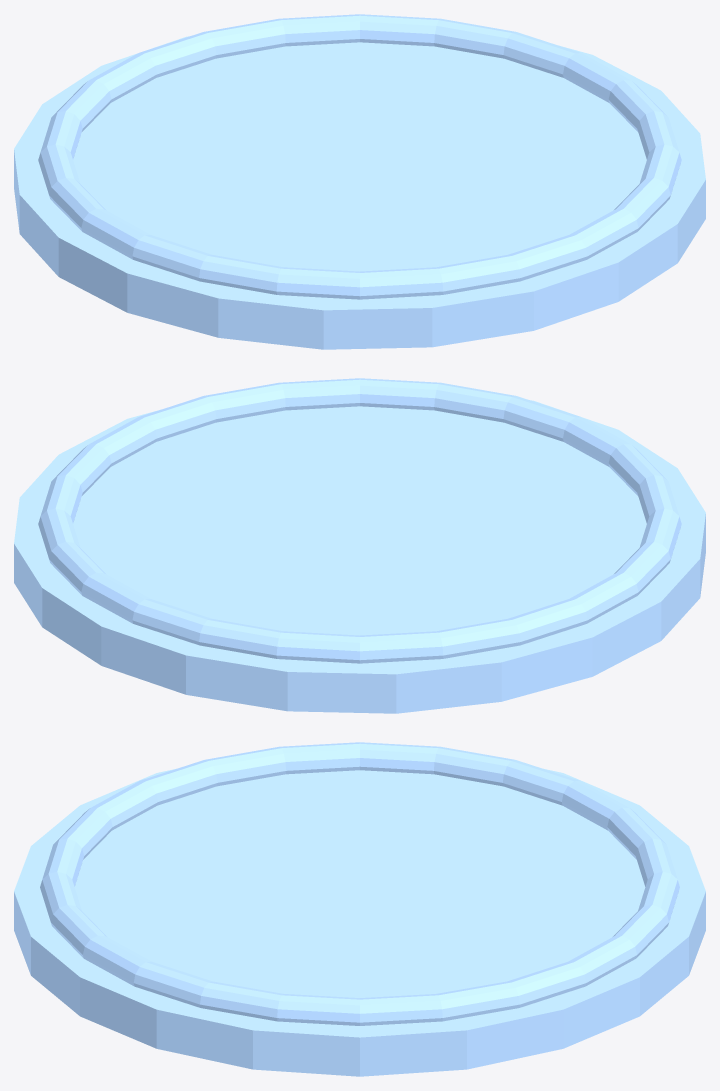
File: low_water_puddle.glb
The picture shows the model from 3 angles, top to bottom: view 1: azimuth 30°, elevation 25°; view 2: azimuth 150°, elevation 25°; view 3: azimuth 270°, elevation 25°; orthographic projection.
Parts seen in each view (by area): view 1: water_puddle; view 2: water_puddle; view 3: water_puddle.
Boxes of the visible parts, x1=… form: water_puddle: x1=14, y1=14, x2=705, y2=349; water_puddle: x1=14, y1=378, x2=705, y2=713; water_puddle: x1=14, y1=742, x2=705, y2=1076.
Bounding box in the file's own units: 0.8 × 0.075 × 0.8.
